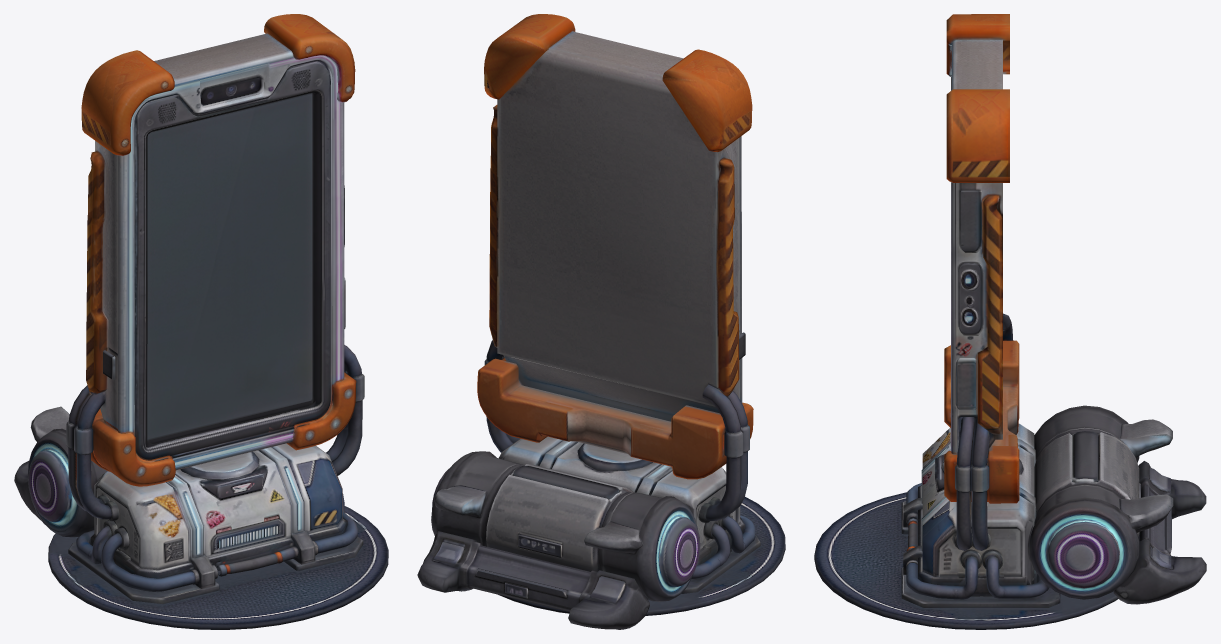
Rendered from tripo_convert_a95bb5a5-0245-4651-b817-59045e1cb9fd.fbx.
The picture shows the model from 3 angles, left to right: view 1: azimuth 30°, elevation 25°; view 2: azimuth 150°, elevation 25°; view 3: azimuth 270°, elevation 25°; orthographic projection. The views are drawn at different scales.
Visible parts, largest first — view 1: tripo_node_a95bb5a5; view 2: tripo_node_a95bb5a5; view 3: tripo_node_a95bb5a5.
Boxes of the visible parts, left/top/right/bottom form: tripo_node_a95bb5a5: left=14, top=14, right=388, bottom=629; tripo_node_a95bb5a5: left=417, top=14, right=785, bottom=629; tripo_node_a95bb5a5: left=814, top=14, right=1206, bottom=629.
Size of the model in its own units: 0.6011 by 0.9995 by 0.7065.
Materials: 1 (1 with a texture image).
